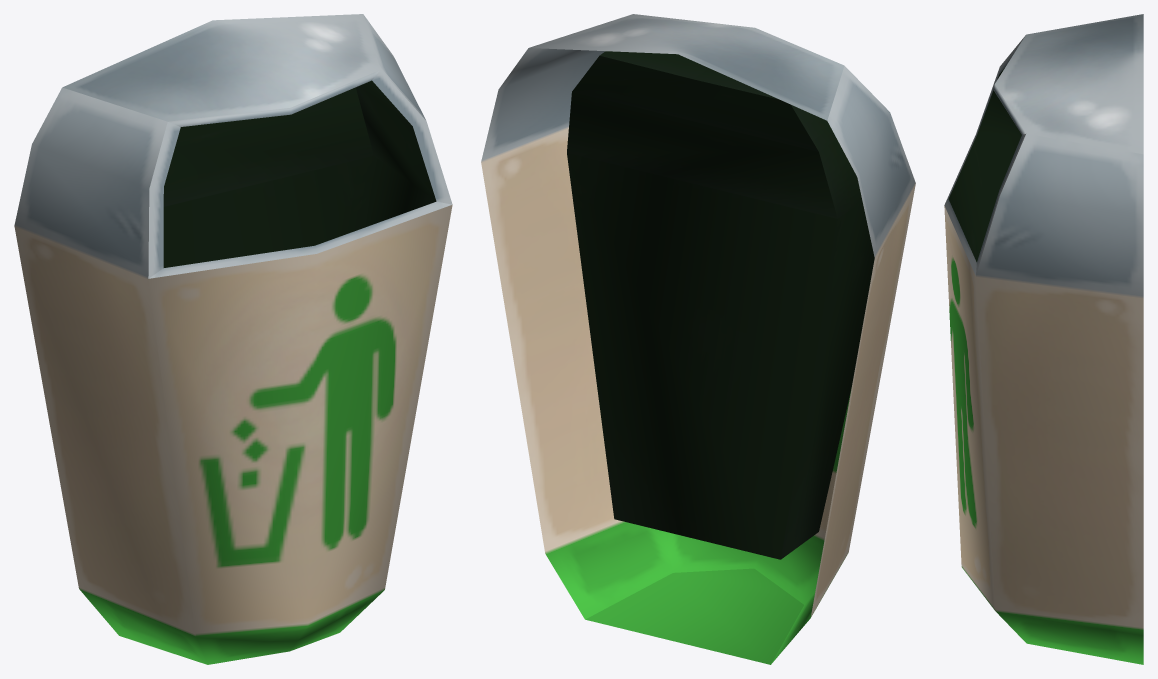
File: poubelle_mural.fbx
The picture shows the model from 3 angles, left to right: view 1: azimuth 30°, elevation 25°; view 2: azimuth 150°, elevation 25°; view 3: azimuth 270°, elevation 25°; orthographic projection. The views are drawn at different scales.
Parts seen in each view (by area): view 1: poubelle_mural2; view 2: poubelle_mural2; view 3: poubelle_mural2.
Part boxes in pixels (<box>): poubelle_mural2: <box>14,14,452,664</box>; poubelle_mural2: <box>481,14,915,664</box>; poubelle_mural2: <box>944,14,1143,664</box>.
Size of the model in its own units: 33.8 by 48.25 by 15.39.
